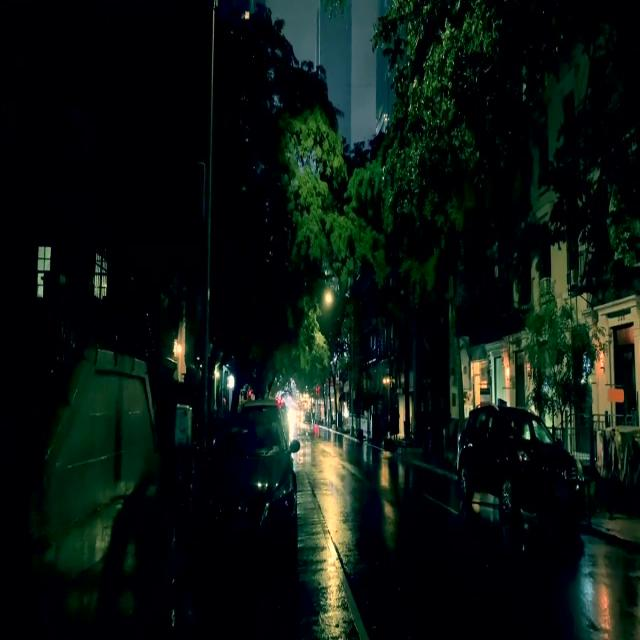Car: (457, 409, 583, 523), (214, 404, 295, 566)
